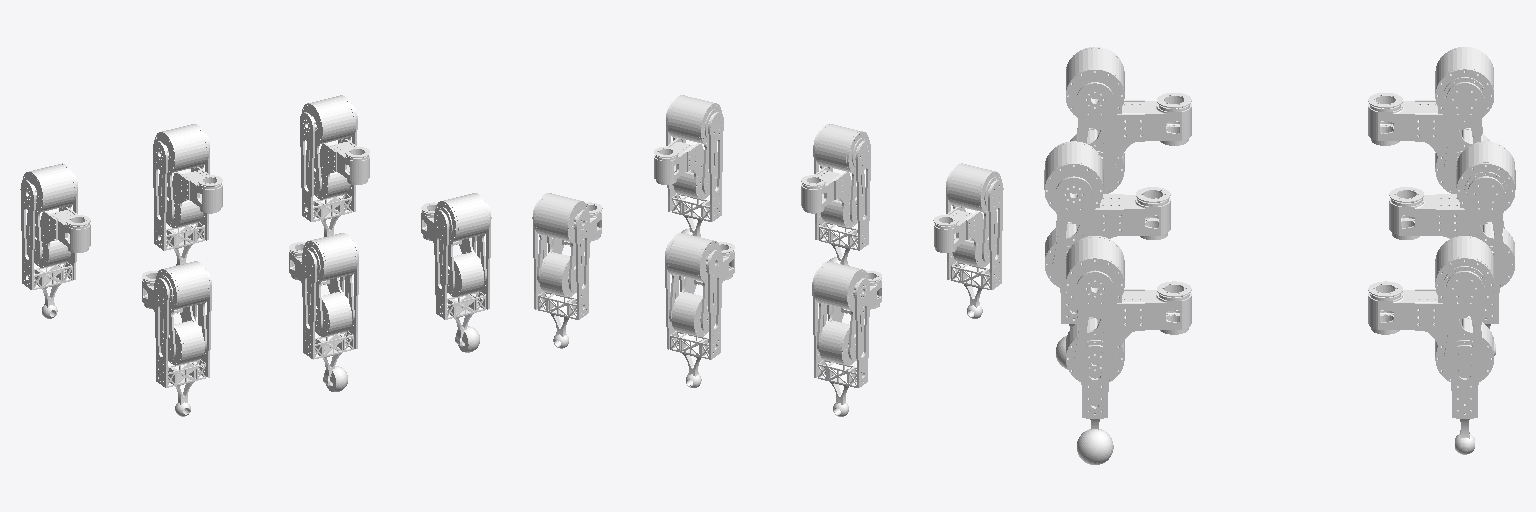
--- Facts derived from the render (not from the file) ---
3 views of the same robot in one strip: view 1: azimuth 30°, elevation 25°; view 2: azimuth 150°, elevation 25°; view 3: azimuth 270°, elevation 25° (orthographic).
Robot: elspider_mini — 26 links, 25 joints (18 revolute, 7 fixed); root link base; default pose: every joint at zero.
Links seen in each view (by area): view 1: RM_SHANK, RF_SHANK, RB_SHANK, RB_THIGH, RF_THIGH, RM_THIGH, LB_SHANK, LF_SHANK, LM_SHANK, LB_HIP, LM_HIP, LF_HIP (+6 smaller); view 2: LF_SHANK, LB_SHANK, LM_SHANK, LM_THIGH, LF_THIGH, LB_THIGH, RB_SHANK, RF_SHANK, RM_SHANK, RM_HIP, RB_HIP, RF_HIP (+6 smaller); view 3: RF_HIP, LF_HIP, RB_HIP, LB_HIP, RM_HIP, LM_HIP, LF_SHANK, RF_SHANK, LF_THIGH, RF_THIGH, RM_THIGH, LM_THIGH (+7 smaller).
Link boxes in pixels (x1,y1,x2,y2): RM_SHANK: (302,240,358,386); RF_SHANK: (434,200,491,346); RB_SHANK: (154,268,211,413); RB_THIGH: (156,261,210,360); RF_THIGH: (435,193,489,292); RM_THIGH: (303,233,357,331); LB_SHANK: (20,172,77,315); LF_SHANK: (300,103,357,236); LM_SHANK: (153,132,209,265); LB_HIP: (35,207,90,267); LM_HIP: (167,167,222,227); LF_HIP: (314,139,369,199); LF_SHANK: (532,201,589,345); LB_SHANK: (812,269,869,413); LM_SHANK: (665,240,722,385); LM_THIGH: (666,233,720,332); LF_THIGH: (534,193,588,292); LB_THIGH: (814,261,867,360); RB_SHANK: (946,171,1003,315); RF_SHANK: (666,102,723,236); RM_SHANK: (813,131,870,265); RM_HIP: (801,167,856,227); RB_HIP: (933,207,988,267); RF_HIP: (654,138,708,199); RF_HIP: (1066,281,1191,381); LF_HIP: (1368,281,1493,381); RB_HIP: (1070,93,1191,192); LB_HIP: (1368,93,1489,192); RM_HIP: (1045,187,1170,287); LM_HIP: (1389,187,1514,287); LF_SHANK: (1446,271,1482,438); RF_SHANK: (1077,271,1113,429); LF_THIGH: (1435,236,1493,377); RF_THIGH: (1066,236,1124,378); RM_THIGH: (1044,141,1103,281); LM_THIGH: (1456,141,1515,281).
Bounding box of the posed robot: 0.9822 × 0.8919 × 0.4459 m (x, y, z).
24 mesh visuals loaded from 25 distinct referenced files (24 binary STL); not drawn: 1 (reference not matched to a file when rendering).

The robot description file, URDF, robot "elspider_mini":
<?xml version="1.0" ?>
<!-- =================================================================================== -->
<!-- |    This document was autogenerated by xacro from robot.xacro                    | -->
<!-- |    EDITING THIS FILE BY HAND IS NOT RECOMMENDED                                 | -->
<!-- =================================================================================== -->
<robot name="elspider_mini">
  <!-- ros_control plugin -->
  <gazebo>
    <plugin filename="libgazebo_ros_control.so" name="gazebo_ros_control">
      <robotNamespace>/elspider_mini</robotNamespace>
      <robotSimType>gazebo_ros_control/DefaultRobotHWSim</robotSimType>
    </plugin>
  </gazebo>
  <!-- root link can not have interia, so add this link and joint -->
  <link name="base">
    <visual>
      <origin rpy="0 0 0" xyz="0 0 0"/>
      <geometry>
        <box size="0.001 0.001 0.001"/>
      </geometry>
    </visual>
  </link>
  <joint name="floating_base" type="fixed">
    <origin rpy="0 0 0" xyz="0 0 0"/>
    <parent link="base"/>
    <child link="base_link"/>
  </joint>
  <link name="base_link">
    <inertial>
      <origin rpy="0 0 0" xyz="0.00930909659167422 -0.0044043008545412 -0.00356076318615579"/>
      <mass value="10.154"/>
      <inertia ixx="0.383316503" ixy="0.005624294" ixz="0.000867617" iyy="1.184788202" iyz="-0.000642783" izz="1.510253542"/>
    </inertial>
    <visual>
      <origin rpy="0 0 0" xyz="0 0 0"/>
      <geometry>
        <mesh filename="package://robot/urdf/elspider_mini/meshes/base_link.STL"/>
      </geometry>
      <material name="">
        <color rgba="1 1 1 1"/>
      </material>
    </visual>
    <collision>
      <origin rpy="0 0 0" xyz="0 0 0"/>
      <geometry>
        <mesh filename="package://robot/urdf/elspider_mini/meshes/base_link.STL"/>
      </geometry>
    </collision>
  </link>
  <!-- right mirror == 1, left mirror == -1 -->
  <link name="RF_HIP">
    <inertial>
      <origin rpy="0 0 0" xyz="-0.0032447 0.10644 -0.051265"/>
      <mass value="1.432"/>
      <inertia ixx="0.008667273" ixy="0.000550519" ixz="-0.000437698" iyy="0.003966417" iyz="0.003045718" izz="0.006263477"/>
    </inertial>
    <visual>
      <origin rpy="0 0 0" xyz="0 0 0"/>
      <geometry>
        <mesh filename="package://robot/urdf/elspider_mini/meshes/RF_HIP.STL"/>
      </geometry>
      <material name="">
        <color rgba="1 1 1 1"/>
      </material>
    </visual>
    <collision>
      <origin rpy="0 0 0" xyz="0 0 0"/>
      <geometry>
        <mesh filename="package://robot/urdf/elspider_mini/meshes/RF_HIP.STL"/>
      </geometry>
    </collision>
  </link>
  <joint name="RF_HAA" type="revolute">
    <origin rpy="0 0 3.1416" xyz="0.42311 -0.2 0.003"/>
    <parent link="base_link"/>
    <child link="RF_HIP"/>
    <axis xyz="0 0 1"/>
    <dynamics damping="0" friction="0"/>
    <limit effort="33.5" lower="-0.94" upper="0.94" velocity="21"/>
  </joint>
  <link name="RF_THIGH">
    <inertial>
      <!-- y approximately euqal to 0 -->
      <origin rpy="0 0 0" xyz="0.130350535114915 0 0.00536514725405646"/>
      <mass value="1.088"/>
      <inertia ixx="0.005757794" ixy="0" ixz="0.001017752" iyy="0.006716892" iyz="0" izz="0.002140865"/>
    </inertial>
    <visual>
      <origin rpy="0 0 0" xyz="0 0 0"/>
      <geometry>
        <mesh filename="package://robot/urdf/elspider_mini/meshes/RF_THIGH.STL"/>
      </geometry>
      <material name="">
        <color rgba="1 1 1 1"/>
      </material>
    </visual>
    <collision>
      <origin rpy="0 0 0" xyz="0 0 0"/>
      <geometry>
        <mesh filename="package://robot/urdf/elspider_mini/meshes/RF_THIGH.STL"/>
      </geometry>
    </collision>
  </link>
  <joint name="RF_HFE" type="revolute">
    <origin rpy="3.1416 -1.5708 0" xyz="0 0.15 -0.086603"/>
    <axis xyz="0 0 -1"/>
    <parent link="RF_HIP"/>
    <child link="RF_THIGH"/>
    <dynamics damping="0" friction="0"/>
    <limit effort="33.5" lower="-0.1" upper="3.5" velocity="21"/>
  </joint>
  <link name="RF_SHANK">
    <inertial>
      <origin rpy="0 0 0" xyz="8.3661968509452e-05 -0.149655490940651 0.00235938386243889"/>
      <mass value="0.632"/>
      <!-- no mirror in ixy, ixz? -->
      <inertia ixx="0.009725734" ixy="0.0" ixz="-0.000516644" iyy="0.011177627" iyz="6.204e-06" izz="0.001750349"/>
    </inertial>
    <visual>
      <origin rpy="0 0 0" xyz="0 0 0"/>
      <geometry>
        <mesh filename="package://robot/urdf/elspider_mini/meshes/RF_SHANK.STL"/>
      </geometry>
      <material name="">
        <color rgba="1 1 1 1"/>
      </material>
    </visual>
    <collision>
      <origin rpy="0 0 0" xyz="0 0 0"/>
      <geometry>
        <mesh filename="package://robot/urdf/elspider_mini/meshes/RF_SHANK.STL"/>
      </geometry>
    </collision>
  </link>
  <joint name="RF_KFE" type="revolute">
    <origin rpy="3.1416 0 1.5708" xyz="0.162 0 0"/>
    <parent link="RF_THIGH"/>
    <child link="RF_SHANK"/>
    <axis xyz="0 0 -1"/>
    <dynamics damping="0" friction="0"/>
    <limit effort="33.5" lower="-0.436" upper="4.25" velocity="21"/>
  </joint>
  <link name="RF_FOOT">
    <inertial>
      <!-- xyz approximately euqal to 0 -->
      <origin rpy="0 0 0" xyz="0 0 0"/>
      <mass value="0.013"/>
      <inertia ixx="2.423e-06" ixy="0" ixz="0" iyy="3.073e-06" iyz="0" izz="2.423e-06"/>
    </inertial>
    <visual>
      <origin rpy="0 0 0" xyz="0 0 0"/>
      <geometry>
        <mesh filename="package://robot/urdf/elspider_mini/meshes/RF_FOOT.STL"/>
      </geometry>
      <material name="">
        <color rgba="1 1 1 1"/>
      </material>
    </visual>
    <collision>
      <origin rpy="0 0 0" xyz="0 0 0"/>
      <geometry>
        <mesh filename="package://robot/urdf/elspider_mini/meshes/RF_FOOT.STL"/>
      </geometry>
    </collision>
  </link>
  <joint dont_collapse="true" name="RF_FIX" type="fixed">
    <origin rpy="3.1416 0 3.1416" xyz="0 -0.35499 0"/>
    <parent link="RF_SHANK"/>
    <child link="RF_FOOT"/>
    <axis xyz="0 0 0"/>
  </joint>
  <transmission name="RF_HAA_tran">
    <type>transmission_interface/SimpleTransmission</type>
    <joint name="RF_HAA">
      <hardwareInterface>hardware_interface/EffortJointInterface</hardwareInterface>
    </joint>
    <actuator name="RF_HAA_motor">
      <hardwareInterface>hardware_interface/EffortJointInterface</hardwareInterface>
      <mechanicalReduction>1</mechanicalReduction>
    </actuator>
  </transmission>
  <transmission name="RF_HFE_tran">
    <type>transmission_interface/SimpleTransmission</type>
    <joint name="RF_HFE">
      <hardwareInterface>hardware_interface/EffortJointInterface</hardwareInterface>
    </joint>
    <actuator name="RF_HFE_motor">
      <hardwareInterface>hardware_interface/EffortJointInterface</hardwareInterface>
      <mechanicalReduction>1</mechanicalReduction>
    </actuator>
  </transmission>
  <transmission name="RF_KFE_tran">
    <type>transmission_interface/SimpleTransmission</type>
    <joint name="RF_KFE">
      <hardwareInterface>hardware_interface/EffortJointInterface</hardwareInterface>
    </joint>
    <actuator name="RF_KFE_motor">
      <hardwareInterface>hardware_interface/EffortJointInterface</hardwareInterface>
      <mechanicalReduction>1</mechanicalReduction>
    </actuator>
  </transmission>
  <!-- Foot contacts. -->
  <gazebo reference="RF_SHANK">
    <sensor name="RF_foot_contact" type="contact">
      <alwaysOn>true</alwaysOn>
      <update_rate>100</update_rate>
      <plugin filename="libunitreeFootContactPlugin.so" name="contactPlugin"/>
      <contact>
        <collision>RF_foot_collision_collision</collision>
      </contact>
    </sensor>
  </gazebo>
  <!-- Visualization of Foot contacts. -->
  <gazebo reference="RF_FOOT">
    <visual>
      <plugin filename="libunitreeDrawForcePlugin.so" name="drawForcePlugin">
        <topicName>RF_foot_contact</topicName>
      </plugin>
    </visual>
  </gazebo>
  <!-- right mirror == 1, left mirror == -1 -->
  <link name="RM_HIP">
    <inertial>
      <origin rpy="0 0 0" xyz="-0.0032447 0.10644 -0.051265"/>
      <mass value="1.432"/>
      <inertia ixx="0.008667273" ixy="0.000550519" ixz="-0.000437698" iyy="0.003966417" iyz="0.003045718" izz="0.006263477"/>
    </inertial>
    <visual>
      <origin rpy="0 0 0" xyz="0 0 0"/>
      <geometry>
        <mesh filename="package://robot/urdf/elspider_mini/meshes/RM_HIP.STL"/>
      </geometry>
      <material name="">
        <color rgba="1 1 1 1"/>
      </material>
    </visual>
    <collision>
      <origin rpy="0 0 0" xyz="0 0 0"/>
      <geometry>
        <mesh filename="package://robot/urdf/elspider_mini/meshes/RM_HIP.STL"/>
      </geometry>
    </collision>
  </link>
  <joint name="RM_HAA" type="revolute">
    <origin rpy="0 0 3.1416" xyz="0 -0.24 0.003"/>
    <parent link="base_link"/>
    <child link="RM_HIP"/>
    <axis xyz="0 0 1"/>
    <dynamics damping="0" friction="0"/>
    <limit effort="33.5" lower="-0.94" upper="0.94" velocity="21"/>
  </joint>
  <link name="RM_THIGH">
    <inertial>
      <!-- y approximately euqal to 0 -->
      <origin rpy="0 0 0" xyz="0.130350535114915 0 0.00536514725405646"/>
      <mass value="1.088"/>
      <inertia ixx="0.005757794" ixy="0" ixz="0.001017752" iyy="0.006716892" iyz="0" izz="0.002140865"/>
    </inertial>
    <visual>
      <origin rpy="0 0 0" xyz="0 0 0"/>
      <geometry>
        <mesh filename="package://robot/urdf/elspider_mini/meshes/RM_THIGH.STL"/>
      </geometry>
      <material name="">
        <color rgba="1 1 1 1"/>
      </material>
    </visual>
    <collision>
      <origin rpy="0 0 0" xyz="0 0 0"/>
      <geometry>
        <mesh filename="package://robot/urdf/elspider_mini/meshes/RM_THIGH.STL"/>
      </geometry>
    </collision>
  </link>
  <joint name="RM_HFE" type="revolute">
    <origin rpy="3.1416 -1.5708 0" xyz="0 0.15 -0.086603"/>
    <axis xyz="0 0 -1"/>
    <parent link="RM_HIP"/>
    <child link="RM_THIGH"/>
    <dynamics damping="0" friction="0"/>
    <limit effort="33.5" lower="-0.1" upper="3.5" velocity="21"/>
  </joint>
  <link name="RM_SHANK">
    <inertial>
      <origin rpy="0 0 0" xyz="8.3661968509452e-05 -0.149655490940651 0.00235938386243889"/>
      <mass value="0.632"/>
      <!-- no mirror in ixy, ixz? -->
      <inertia ixx="0.009725734" ixy="0.0" ixz="-0.000516644" iyy="0.011177627" iyz="6.204e-06" izz="0.001750349"/>
    </inertial>
    <visual>
      <origin rpy="0 0 0" xyz="0 0 0"/>
      <geometry>
        <mesh filename="package://robot/urdf/elspider_mini/meshes/RM_SHANK.STL"/>
      </geometry>
      <material name="">
        <color rgba="1 1 1 1"/>
      </material>
    </visual>
    <collision>
      <origin rpy="0 0 0" xyz="0 0 0"/>
      <geometry>
        <mesh filename="package://robot/urdf/elspider_mini/meshes/RM_SHANK.STL"/>
      </geometry>
    </collision>
  </link>
  <joint name="RM_KFE" type="revolute">
    <origin rpy="3.1416 0 1.5708" xyz="0.162 0 0"/>
    <parent link="RM_THIGH"/>
    <child link="RM_SHANK"/>
    <axis xyz="0 0 -1"/>
    <dynamics damping="0" friction="0"/>
    <limit effort="33.5" lower="-0.436" upper="4.25" velocity="21"/>
  </joint>
  <link name="RM_FOOT">
    <inertial>
      <!-- xyz approximately euqal to 0 -->
      <origin rpy="0 0 0" xyz="0 0 0"/>
      <mass value="0.013"/>
      <inertia ixx="2.423e-06" ixy="0" ixz="0" iyy="3.073e-06" iyz="0" izz="2.423e-06"/>
    </inertial>
    <visual>
      <origin rpy="0 0 0" xyz="0 0 0"/>
      <geometry>
        <mesh filename="package://robot/urdf/elspider_mini/meshes/RM_FOOT.STL"/>
      </geometry>
      <material name="">
        <color rgba="1 1 1 1"/>
      </material>
    </visual>
    <collision>
      <origin rpy="0 0 0" xyz="0 0 0"/>
      <geometry>
        <mesh filename="package://robot/urdf/elspider_mini/meshes/RM_FOOT.STL"/>
      </geometry>
    </collision>
  </link>
  <joint dont_collapse="true" name="RM_FIX" type="fixed">
    <origin rpy="3.1416 0 3.1416" xyz="0 -0.35499 0"/>
    <parent link="RM_SHANK"/>
    <child link="RM_FOOT"/>
    <axis xyz="0 0 0"/>
  </joint>
  <transmission name="RM_HAA_tran">
    <type>transmission_interface/SimpleTransmission</type>
    <joint name="RM_HAA">
      <hardwareInterface>hardware_interface/EffortJointInterface</hardwareInterface>
    </joint>
    <actuator name="RM_HAA_motor">
      <hardwareInterface>hardware_interface/EffortJointInterface</hardwareInterface>
      <mechanicalReduction>1</mechanicalReduction>
    </actuator>
  </transmission>
  <transmission name="RM_HFE_tran">
    <type>transmission_interface/SimpleTransmission</type>
    <joint name="RM_HFE">
      <hardwareInterface>hardware_interface/EffortJointInterface</hardwareInterface>
    </joint>
    <actuator name="RM_HFE_motor">
      <hardwareInterface>hardware_interface/EffortJointInterface</hardwareInterface>
      <mechanicalReduction>1</mechanicalReduction>
    </actuator>
  </transmission>
  <transmission name="RM_KFE_tran">
    <type>transmission_interface/SimpleTransmission</type>
    <joint name="RM_KFE">
      <hardwareInterface>hardware_interface/EffortJointInterface</hardwareInterface>
    </joint>
    <actuator name="RM_KFE_motor">
      <hardwareInterface>hardware_interface/EffortJointInterface</hardwareInterface>
      <mechanicalReduction>1</mechanicalReduction>
    </actuator>
  </transmission>
  <!-- Foot contacts. -->
  <gazebo reference="RM_SHANK">
    <sensor name="RM_foot_contact" type="contact">
      <alwaysOn>true</alwaysOn>
      <update_rate>100</update_rate>
      <plugin filename="libunitreeFootContactPlugin.so" name="contactPlugin"/>
      <contact>
        <collision>RM_foot_collision_collision</collision>
      </contact>
    </sensor>
  </gazebo>
  <!-- Visualization of Foot contacts. -->
  <gazebo reference="RM_FOOT">
    <visual>
      <plugin filename="libunitreeDrawForcePlugin.so" name="drawForcePlugin">
        <topicName>RM_foot_contact</topicName>
      </plugin>
    </visual>
  </gazebo>
  <!-- right mirror == 1, left mirror == -1 -->
  <link name="RB_HIP">
    <inertial>
      <origin rpy="0 0 0" xyz="-0.0032447 0.10644 -0.051265"/>
      <mass value="1.432"/>
      <inertia ixx="0.008667273" ixy="0.000550519" ixz="-0.000437698" iyy="0.003966417" iyz="0.003045718" izz="0.006263477"/>
    </inertial>
    <visual>
      <origin rpy="0 0 0" xyz="0 0 0"/>
      <geometry>
        <mesh filename="package://robot/urdf/elspider_mini/meshes/RB_HIP.STL"/>
      </geometry>
      <material name="">
        <color rgba="1 1 1 1"/>
      </material>
    </visual>
    <collision>
      <origin rpy="0 0 0" xyz="0 0 0"/>
      <geometry>
        <mesh filename="package://robot/urdf/elspider_mini/meshes/RB_HIP.STL"/>
      </geometry>
    </collision>
  </link>
  <joint name="RB_HAA" type="revolute">
    <origin rpy="0 0 3.1416" xyz="-0.42311 -0.2 0.003"/>
    <parent link="base_link"/>
    <child link="RB_HIP"/>
    <axis xyz="0 0 1"/>
    <dynamics damping="0" friction="0"/>
    <limit effort="33.5" lower="-0.94" upper="0.94" velocity="21"/>
  </joint>
  <link name="RB_THIGH">
    <inertial>
      <!-- y approximately euqal to 0 -->
      <origin rpy="0 0 0" xyz="0.130350535114915 0 0.00536514725405646"/>
      <mass value="1.088"/>
      <inertia ixx="0.005757794" ixy="0" ixz="0.001017752" iyy="0.006716892" iyz="0" izz="0.002140865"/>
    </inertial>
    <visual>
      <origin rpy="0 0 0" xyz="0 0 0"/>
      <geometry>
        <mesh filename="package://robot/urdf/elspider_mini/meshes/RB_THIGH.STL"/>
      </geometry>
      <material name="">
        <color rgba="1 1 1 1"/>
      </material>
    </visual>
    <collision>
      <origin rpy="0 0 0" xyz="0 0 0"/>
      <geometry>
        <mesh filename="package://robot/urdf/elspider_mini/meshes/RB_THIGH.STL"/>
      </geometry>
    </collision>
  </link>
  <joint name="RB_HFE" type="revolute">
    <origin rpy="3.1416 -1.5708 0" xyz="0 0.15 -0.086603"/>
    <axis xyz="0 0 -1"/>
    <parent link="RB_HIP"/>
    <child link="RB_THIGH"/>
    <dynamics damping="0" friction="0"/>
    <limit effort="33.5" lower="-0.1" upper="3.5" velocity="21"/>
  </joint>
  <link name="RB_SHANK">
    <inertial>
      <origin rpy="0 0 0" xyz="8.3661968509452e-05 -0.149655490940651 0.00235938386243889"/>
      <mass value="0.632"/>
      <!-- no mirror in ixy, ixz? -->
      <inertia ixx="0.009725734" ixy="0.0" ixz="-0.000516644" iyy="0.011177627" iyz="6.204e-06" izz="0.001750349"/>
    </inertial>
    <visual>
      <origin rpy="0 0 0" xyz="0 0 0"/>
      <geometry>
        <mesh filename="package://robot/urdf/elspider_mini/meshes/RB_SHANK.STL"/>
      </geometry>
      <material name="">
        <color rgba="1 1 1 1"/>
      </material>
    </visual>
    <collision>
      <origin rpy="0 0 0" xyz="0 0 0"/>
      <geometry>
        <mesh filename="package://robot/urdf/elspider_mini/meshes/RB_SHANK.STL"/>
      </geometry>
    </collision>
  </link>
  <joint name="RB_KFE" type="revolute">
    <origin rpy="3.1416 0 1.5708" xyz="0.162 0 0"/>
    <parent link="RB_THIGH"/>
    <child link="RB_SHANK"/>
    <axis xyz="0 0 -1"/>
    <dynamics damping="0" friction="0"/>
    <limit effort="33.5" lower="-0.436" upper="4.25" velocity="21"/>
  </joint>
  <link name="RB_FOOT">
    <inertial>
      <!-- xyz approximately euqal to 0 -->
      <origin rpy="0 0 0" xyz="0 0 0"/>
      <mass value="0.013"/>
      <inertia ixx="2.423e-06" ixy="0" ixz="0" iyy="3.073e-06" iyz="0" izz="2.423e-06"/>
    </inertial>
    <visual>
      <origin rpy="0 0 0" xyz="0 0 0"/>
      <geometry>
        <mesh filename="package://robot/urdf/elspider_mini/meshes/RB_FOOT.STL"/>
      </geometry>
      <material name="">
        <color rgba="1 1 1 1"/>
      </material>
    </visual>
    <collision>
      <origin rpy="0 0 0" xyz="0 0 0"/>
      <geometry>
        <mesh filename="package://robot/urdf/elspider_mini/meshes/RB_FOOT.STL"/>
      </geometry>
    </collision>
  </link>
  <joint dont_collapse="true" name="RB_FIX" type="fixed">
    <origin rpy="3.1416 0 3.1416" xyz="0 -0.35499 0"/>
    <parent link="RB_SHANK"/>
    <child link="RB_FOOT"/>
    <axis xyz="0 0 0"/>
  </joint>
  <transmission name="RB_HAA_tran">
    <type>transmission_interface/SimpleTransmission</type>
    <joint name="RB_HAA">
      <hardwareInterface>hardware_interface/EffortJointInterface</hardwareInterface>
    </joint>
    <actuator name="RB_HAA_motor">
      <hardwareInterface>hardware_interface/EffortJointInterface</hardwareInterface>
      <mechanicalReduction>1</mechanicalReduction>
    </actuator>
  </transmission>
  <transmission name="RB_HFE_tran">
    <type>transmission_interface/SimpleTransmission</type>
    <joint name="RB_HFE">
      <hardwareInterface>hardware_interface/EffortJointInterface</hardwareInterface>
    </joint>
    <actuator name="RB_HFE_motor">
      <hardwareInterface>hardware_interface/EffortJointInterface</hardwareInterface>
      <mechanicalReduction>1</mechanicalReduction>
    </actuator>
  </transmission>
  <transmission name="RB_KFE_tran">
    <type>transmission_interface/SimpleTransmission</type>
    <joint name="RB_KFE">
      <hardwareInterface>hardware_interface/EffortJointInterface</hardwareInterface>
    </joint>
    <actuator name="RB_KFE_motor">
      <hardwareInterface>hardware_interface/EffortJointInterface</hardwareInterface>
      <mechanicalReduction>1</mechanicalReduction>
    </actuator>
  </transmission>
  <!-- Foot contacts. -->
  <gazebo reference="RB_SHANK">
    <sensor name="RB_foot_contact" type="contact">
      <alwaysOn>true</alwaysOn>
      <update_rate>100</update_rate>
      <plugin filename="libunitreeFootContactPlugin.so" name="contactPlugin"/>
      <contact>
        <collision>RB_foot_collision_collision</collision>
      </contact>
    </sensor>
  </gazebo>
  <!-- Visualization of Foot contacts. -->
  <gazebo reference="RB_FOOT">
    <visual>
      <plugin filename="libunitreeDrawForcePlugin.so" name="drawForcePlugin">
        <topicName>RB_foot_contact</topicName>
      </plugin>
    </visual>
  </gazebo>
  <!-- right mirror == 1, left mirror == -1 -->
  <link name="LF_HIP">
    <inertial>
      <origin rpy="0 0 0" xyz="-0.0032447 0.10644 0.051265"/>
      <mass value="1.432"/>
      <inertia ixx="0.008667273" ixy="-0.000550519" ixz="-0.000437698" iyy="0.003966417" iyz="-0.003045718" izz="0.006263477"/>
    </inertial>
    <visual>
      <origin rpy="0 0 0" xyz="0 0 0"/>
      <geometry>
        <mesh filename="package://robot/urdf/elspider_mini/meshes/LF_HIP.STL"/>
      </geometry>
      <material name="">
        <color rgba="1 1 1 1"/>
      </material>
    </visual>
    <collision>
      <origin rpy="0 0 0" xyz="0 0 0"/>
      <geometry>
        <mesh filename="package://robot/urdf/elspider_mini/meshes/LF_HIP.STL"/>
      </geometry>
    </collision>
  </link>
  <joint name="LF_HAA" type="revolute">
    <origin rpy="3.1416 0 3.1416" xyz="0.42311 0.2 0.003"/>
    <parent link="base_link"/>
    <child link="LF_HIP"/>
    <axis xyz="0 0 1"/>
    <dynamics damping="0" friction="0"/>
    <limit effort="33.5" lower="-0.94" upper="0.94" velocity="21"/>
  </joint>
  <link name="LF_THIGH">
    <inertial>
      <!-- y approximately euqal to 0 -->
      <origin rpy="0 0 0" xyz="0.130350535114915 0 -0.00536514725405646"/>
      <mass value="1.088"/>
      <inertia ixx="0.005757794" ixy="0" ixz="0.001017752" iyy="0.006716892" iyz="0" izz="0.002140865"/>
    </inertial>
    <visual>
      <origin rpy="0 0 0" xyz="0 0 0"/>
      <geometry>
        <mesh filename="package://robot/urdf/elspider_mini/meshes/LF_THIGH.STL"/>
      </geometry>
      <material name="">
        <color rgba="1 1 1 1"/>
      </material>
    </visual>
    <collision>
      <origin rpy="0 0 0" xyz="0 0 0"/>
      <geometry>
        <mesh filename="package://robot/urdf/elspider_mini/meshes/LF_THIGH.STL"/>
      </geometry>
    </collision>
  </link>
  <joint name="LF_HFE" type="revolute">
    <origin rpy="0 1.5708 0" xyz="0 0.15 0.086603"/>
    <axis xyz="0 0 1"/>
    <parent link="LF_HIP"/>
    <child link="LF_THIGH"/>
    <dynamics damping="0" friction="0"/>
    <limit effort="33.5" lower="-0.1" upper="3.5" velocity="21"/>
  </joint>
  <link name="LF_SHANK">
    <inertial>
      <origin rpy="0 0 0" xyz="-8.3661968509452e-05 -0.149655490940651 -0.00235938386243889"/>
      <mass value="0.632"/>
      <!-- no mirror in ixy, ixz? -->
      <inertia ixx="0.009725734" ixy="0.0" ixz="-0.000516644" iyy="0.011177627" iyz="6.204e-06" izz="0.001750349"/>
    </inertial>
    <visual>
      <origin rpy="0 0 0" xyz="0 0 0"/>
      <geometry>
        <mesh filename="package://robot/urdf/elspider_mini/meshes/LF_SHANK.STL"/>
      </geometry>
      <material name="">
        <color rgba="1 1 1 1"/>
      </material>
    </visual>
    <collision>
      <origin rpy="0 0 0" xyz="0 0 0"/>
      <geometry>
        <mesh filename="package://robot/urdf/elspider_mini/meshes/LF_SHANK.STL"/>
      </geometry>
    </collision>
  </link>
  <joint name="LF_KFE" type="revolute">
    <origin rpy="3.1416 0 1.5708" xyz="0.162 0 0"/>
    <parent link="LF_THIGH"/>
    <child link="LF_SHANK"/>
    <axis xyz="0 0 1"/>
    <dynamics damping="0" friction="0"/>
    <limit effort="33.5" lower="-0.436" upper="4.25" velocity="21"/>
  </joint>
  <link name="LF_FOOT">
    <inertial>
      <!-- xyz approximately euqal to 0 -->
      <origin rpy="0 0 0" xyz="0 0 0"/>
      <mass value="0.013"/>
      <inertia ixx="2.423e-06" ixy="0" ixz="0" iyy="3.073e-06" iyz="0" izz="2.423e-06"/>
    </inertial>
    <visual>
      <origin rpy="0 0 0" xyz="0 0 0"/>
      <geometry>
        <mesh filename="package://robot/urdf/elspider_mini/meshes/LF_FOOT.STL"/>
      </geometry>
      <material name="">
        <color rgba="1 1 1 1"/>
      </material>
    </visual>
    <collision>
      <origin rpy="0 0 0" xyz="0 0 0"/>
      <geometry>
        <mesh filename="package://robot/urdf/elspider_mini/meshes/LF_FOOT.STL"/>
      </geometry>
    </collision>
  </link>
  <joint dont_collapse="true" name="LF_FIX" type="fixed">
    <origin rpy="0 0 0" xyz="0 -0.35499 0"/>
    <parent link="LF_SHANK"/>
    <child link="LF_FOOT"/>
    <axis xyz="0 0 0"/>
  </joint>
  <transmission name="LF_HAA_tran">
    <type>transmission_interface/SimpleTransmission</type>
    <joint name="LF_HAA">
      <hardwareInterface>hardware_interface/EffortJointInterface</hardwareInterface>
    </joint>
    <actuator name="LF_HAA_motor">
      <hardwareInterface>hardware_interface/EffortJointInterface</hardwareInterface>
      <mechanicalReduction>1</mechanicalReduction>
    </actuator>
  </transmission>
  <transmission name="LF_HFE_tran">
    <type>transmission_interface/SimpleTransmission</type>
    <joint name="LF_HFE">
      <hardwareInterface>hardware_interface/EffortJointInterface</hardwareInterface>
    </joint>
    <actuator name="LF_HFE_motor">
      <hardwareInterface>hardware_interface/EffortJointInterface</hardwareInterface>
      <mechanicalReduction>1</mechanicalReduction>
    </actuator>
  </transmission>
  <transmission name="LF_KFE_tran">
    <type>transmission_interface/SimpleTransmission</type>
    <joint name="LF_KFE">
      <hardwareInterface>hardware_interface/EffortJointInterface</hardwareInterface>
    </joint>
    <actuator name="LF_KFE_motor">
      <hardwareInterface>hardware_interface/EffortJointInterface</hardwareInterface>
      <mechanicalReduction>1</mechanicalReduction>
    </actuator>
  </transmission>
  <!-- Foot contacts. -->
  <gazebo reference="LF_SHANK">
    <sensor name="LF_foot_contact" type="contact">
      <alwaysOn>true</alwaysOn>
      <update_rate>100</update_rate>
      <plugin filename="libunitreeFootContactPlugin.so" name="contactPlugin"/>
      <contact>
        <collision>LF_foot_collision_collision</collision>
      </contact>
    </sensor>
  </gazebo>
  <!-- Visualization of Foot contacts. -->
  <gazebo reference="LF_FOOT">
    <visual>
      <plugin filename="libunitreeDrawForcePlugin.so" name="drawForcePlugin">
        <topicName>LF_foot_contact</topicName>
      </plugin>
    </visual>
  </gazebo>
  <!-- right mirror == 1, left mirror == -1 -->
  <link name="LM_HIP">
    <inertial>
      <origin rpy="0 0 0" xyz="-0.0032447 0.10644 0.051265"/>
      <mass value="1.432"/>
      <inertia ixx="0.008667273" ixy="-0.000550519" ixz="-0.000437698" iyy="0.003966417" iyz="-0.003045718" izz="0.006263477"/>
    </inertial>
    <visual>
      <origin rpy="0 0 0" xyz="0 0 0"/>
      <geometry>
        <mesh filename="package://robot/urdf/elspider_mini/meshes/LM_HIP.STL"/>
      </geometry>
      <material name="">
        <color rgba="1 1 1 1"/>
      </material>
    </visual>
    <collision>
      <origin rpy="0 0 0" xyz="0 0 0"/>
      <geometry>
        <mesh filename="package://robot/urdf/elspider_mini/meshes/LM_HIP.STL"/>
      </geometry>
    </collision>
  </link>
  <joint name="LM_HAA" type="revolute">
    <origin rpy="3.1416 0 -3.1416" xyz="0 0.24 0.003"/>
    <parent link="base_link"/>
    <child link="LM_HIP"/>
    <axis xyz="0 0 1"/>
    <dynamics damping="0" friction="0"/>
    <limit effort="33.5" lower="-0.94" upper="0.94" velocity="21"/>
  </joint>
  <link name="LM_THIGH">
    <inertial>
      <!-- y approximately euqal to 0 -->
      <origin rpy="0 0 0" xyz="0.130350535114915 0 -0.00536514725405646"/>
      <mass value="1.088"/>
      <inertia ixx="0.005757794" ixy="0" ixz="0.001017752" iyy="0.006716892" iyz="0" izz="0.002140865"/>
    </inertial>
    <visual>
      <origin rpy="0 0 0" xyz="0 0 0"/>
      <geometry>
        <mesh filename="package://robot/urdf/elspider_mini/meshes/LM_THIGH.STL"/>
      </geometry>
      <material name="">
        <color rgba="1 1 1 1"/>
      </material>
    </visual>
    <collision>
      <origin rpy="0 0 0" xyz="0 0 0"/>
      <geometry>
        <mesh filename="package://robot/urdf/elspider_mini/meshes/LM_THIGH.STL"/>
      </geometry>
    </collision>
  </link>
  <joint name="LM_HFE" type="revolute">
    <origin rpy="0 1.5708 0" xyz="0 0.15 0.086603"/>
    <axis xyz="0 0 1"/>
    <parent link="LM_HIP"/>
    <child link="LM_THIGH"/>
    <dynamics damping="0" friction="0"/>
    <limit effort="33.5" lower="-0.1" upper="3.5" velocity="21"/>
  </joint>
  <link name="LM_SHANK">
    <inertial>
      <origin rpy="0 0 0" xyz="-8.3661968509452e-05 -0.149655490940651 -0.00235938386243889"/>
      <mass value="0.632"/>
      <!-- no mirror in ixy, ixz? -->
      <inertia ixx="0.009725734" ixy="0.0" ixz="-0.000516644" iyy="0.011177627" iyz="6.204e-06" izz="0.001750349"/>
    </inertial>
    <visual>
      <origin rpy="0 0 0" xyz="0 0 0"/>
      <geometry>
        <mesh filename="package://robot/urdf/elspider_mini/meshes/LM_SHANK.STL"/>
      </geometry>
      <material name="">
        <color rgba="1 1 1 1"/>
      </material>
    </visual>
    <collision>
      <origin rpy="0 0 0" xyz="0 0 0"/>
      <geometry>
        <mesh filename="package://robot/urdf/elspider_mini/meshes/LM_SHANK.STL"/>
      </geometry>
    </collision>
  </link>
  <joint name="LM_KFE" type="revolute">
    <origin rpy="3.1416 0 1.5708" xyz="0.162 0 0"/>
    <parent link="LM_THIGH"/>
    <child link="LM_SHANK"/>
    <axis xyz="0 0 1"/>
    <dynamics damping="0" friction="0"/>
    <limit effort="33.5" lower="-0.436" upper="4.25" velocity="21"/>
  </joint>
  <link name="LM_FOOT">
    <inertial>
      <!-- xyz approximately euqal to 0 -->
      <origin rpy="0 0 0" xyz="0 0 0"/>
      <mass value="0.013"/>
      <inertia ixx="2.423e-06" ixy="0" ixz="0" iyy="3.073e-06" iyz="0" izz="2.423e-06"/>
    </inertial>
    <visual>
      <origin rpy="0 0 0" xyz="0 0 0"/>
      <geometry>
        <mesh filename="package://robot/urdf/elspider_mini/meshes/LM_FOOT.STL"/>
      </geometry>
      <material name="">
        <color rgba="1 1 1 1"/>
      </material>
    </visual>
    <collision>
      <origin rpy="0 0 0" xyz="0 0 0"/>
      <geometry>
        <mesh filename="package://robot/urdf/elspider_mini/meshes/LM_FOOT.STL"/>
      </geometry>
    </collision>
  </link>
  <joint dont_collapse="true" name="LM_FIX" type="fixed">
    <origin rpy="0 0 0" xyz="0 -0.35499 0"/>
    <parent link="LM_SHANK"/>
    <child link="LM_FOOT"/>
    <axis xyz="0 0 0"/>
  </joint>
  <transmission name="LM_HAA_tran">
    <type>transmission_interface/SimpleTransmission</type>
    <joint name="LM_HAA">
      <hardwareInterface>hardware_interface/EffortJointInterface</hardwareInterface>
    </joint>
    <actuator name="LM_HAA_motor">
      <hardwareInterface>hardware_interface/EffortJointInterface</hardwareInterface>
      <mechanicalReduction>1</mechanicalReduction>
    </actuator>
  </transmission>
  <transmission name="LM_HFE_tran">
    <type>transmission_interface/SimpleTransmission</type>
    <joint name="LM_HFE">
      <hardwareInterface>hardware_interface/EffortJointInterface</hardwareInterface>
    </joint>
    <actuator name="LM_HFE_motor">
      <hardwareInterface>hardware_interface/EffortJointInterface</hardwareInterface>
      <mechanicalReduction>1</mechanicalReduction>
    </actuator>
  </transmission>
  <transmission name="LM_KFE_tran">
    <type>transmission_interface/SimpleTransmission</type>
    <joint name="LM_KFE">
      <hardwareInterface>hardware_interface/EffortJointInterface</hardwareInterface>
    </joint>
    <actuator name="LM_KFE_motor">
      <hardwareInterface>hardware_interface/EffortJointInterface</hardwareInterface>
      <mechanicalReduction>1</mechanicalReduction>
    </actuator>
  </transmission>
  <!-- Foot contacts. -->
  <gazebo reference="LM_SHANK">
    <sensor name="LM_foot_contact" type="contact">
      <alwaysOn>true</alwaysOn>
      <update_rate>100</update_rate>
      <plugin filename="libunitreeFootContactPlugin.so" name="contactPlugin"/>
      <contact>
        <collision>LM_foot_collision_collision</collision>
      </contact>
    </sensor>
  </gazebo>
  <!-- Visualization of Foot contacts. -->
  <gazebo reference="LM_FOOT">
    <visual>
      <plugin filename="libunitreeDrawForcePlugin.so" name="drawForcePlugin">
        <topicName>LM_foot_contact</topicName>
      </plugin>
    </visual>
  </gazebo>
  <!-- right mirror == 1, left mirror == -1 -->
  <link name="LB_HIP">
    <inertial>
      <origin rpy="0 0 0" xyz="-0.0032447 0.10644 0.051265"/>
      <mass value="1.432"/>
      <inertia ixx="0.008667273" ixy="-0.000550519" ixz="-0.000437698" iyy="0.003966417" iyz="-0.003045718" izz="0.006263477"/>
    </inertial>
    <visual>
      <origin rpy="0 0 0" xyz="0 0 0"/>
      <geometry>
        <mesh filename="package://robot/urdf/elspider_mini/meshes/LB_HIP.STL"/>
      </geometry>
      <material name="">
        <color rgba="1 1 1 1"/>
      </material>
    </visual>
    <collision>
      <origin rpy="0 0 0" xyz="0 0 0"/>
      <geometry>
        <mesh filename="package://robot/urdf/elspider_mini/meshes/LB_HIP.STL"/>
      </geometry>
    </collision>
  </link>
  <joint name="LB_HAA" type="revolute">
    <origin rpy="3.1416 0 3.1416" xyz="-0.42311 0.2 0.003"/>
    <parent link="base_link"/>
    <child link="LB_HIP"/>
    <axis xyz="0 0 1"/>
    <dynamics damping="0" friction="0"/>
    <limit effort="33.5" lower="-0.94" upper="0.94" velocity="21"/>
  </joint>
  <link name="LB_THIGH">
    <inertial>
      <!-- y approximately euqal to 0 -->
      <origin rpy="0 0 0" xyz="0.130350535114915 0 -0.00536514725405646"/>
      <mass value="1.088"/>
      <inertia ixx="0.005757794" ixy="0" ixz="0.001017752" iyy="0.006716892" iyz="0" izz="0.002140865"/>
    </inertial>
    <visual>
      <origin rpy="0 0 0" xyz="0 0 0"/>
      <geometry>
        <mesh filename="package://robot/urdf/elspider_mini/meshes/LB_THIGH.STL"/>
      </geometry>
      <material name="">
        <color rgba="1 1 1 1"/>
      </material>
    </visual>
    <collision>
      <origin rpy="0 0 0" xyz="0 0 0"/>
      <geometry>
        <mesh filename="package://robot/urdf/elspider_mini/meshes/LB_THIGH.STL"/>
      </geometry>
    </collision>
  </link>
  <joint name="LB_HFE" type="revolute">
    <origin rpy="0 1.5708 0" xyz="0 0.15 0.086603"/>
    <axis xyz="0 0 1"/>
    <parent link="LB_HIP"/>
    <child link="LB_THIGH"/>
    <dynamics damping="0" friction="0"/>
    <limit effort="33.5" lower="-0.1" upper="3.5" velocity="21"/>
  </joint>
  <link name="LB_SHANK">
    <inertial>
      <origin rpy="0 0 0" xyz="-8.3661968509452e-05 -0.149655490940651 -0.00235938386243889"/>
      <mass value="0.632"/>
      <!-- no mirror in ixy, ixz? -->
      <inertia ixx="0.009725734" ixy="0.0" ixz="-0.000516644" iyy="0.011177627" iyz="6.204e-06" izz="0.001750349"/>
    </inertial>
    <visual>
      <origin rpy="0 0 0" xyz="0 0 0"/>
      <geometry>
        <mesh filename="package://robot/urdf/elspider_mini/meshes/LB_SHANK.STL"/>
      </geometry>
      <material name="">
        <color rgba="1 1 1 1"/>
      </material>
    </visual>
    <collision>
      <origin rpy="0 0 0" xyz="0 0 0"/>
      <geometry>
        <mesh filename="package://robot/urdf/elspider_mini/meshes/LB_SHANK.STL"/>
      </geometry>
    </collision>
  </link>
  <joint name="LB_KFE" type="revolute">
    <origin rpy="3.1416 0 1.5708" xyz="0.162 0 0"/>
    <parent link="LB_THIGH"/>
    <child link="LB_SHANK"/>
    <axis xyz="0 0 1"/>
    <dynamics damping="0" friction="0"/>
    <limit effort="33.5" lower="-0.436" upper="4.25" velocity="21"/>
  </joint>
  <link name="LB_FOOT">
    <inertial>
      <!-- xyz approximately euqal to 0 -->
      <origin rpy="0 0 0" xyz="0 0 0"/>
      <mass value="0.013"/>
      <inertia ixx="2.423e-06" ixy="0" ixz="0" iyy="3.073e-06" iyz="0" izz="2.423e-06"/>
    </inertial>
    <visual>
      <origin rpy="0 0 0" xyz="0 0 0"/>
      <geometry>
        <mesh filename="package://robot/urdf/elspider_mini/meshes/LB_FOOT.STL"/>
      </geometry>
      <material name="">
        <color rgba="1 1 1 1"/>
      </material>
    </visual>
    <collision>
      <origin rpy="0 0 0" xyz="0 0 0"/>
      <geometry>
        <mesh filename="package://robot/urdf/elspider_mini/meshes/LB_FOOT.STL"/>
      </geometry>
    </collision>
  </link>
  <joint dont_collapse="true" name="LB_FIX" type="fixed">
    <origin rpy="0 0 0" xyz="0 -0.35499 0"/>
    <parent link="LB_SHANK"/>
    <child link="LB_FOOT"/>
    <axis xyz="0 0 0"/>
  </joint>
  <transmission name="LB_HAA_tran">
    <type>transmission_interface/SimpleTransmission</type>
    <joint name="LB_HAA">
      <hardwareInterface>hardware_interface/EffortJointInterface</hardwareInterface>
    </joint>
    <actuator name="LB_HAA_motor">
      <hardwareInterface>hardware_interface/EffortJointInterface</hardwareInterface>
      <mechanicalReduction>1</mechanicalReduction>
    </actuator>
  </transmission>
  <transmission name="LB_HFE_tran">
    <type>transmission_interface/SimpleTransmission</type>
    <joint name="LB_HFE">
      <hardwareInterface>hardware_interface/EffortJointInterface</hardwareInterface>
    </joint>
    <actuator name="LB_HFE_motor">
      <hardwareInterface>hardware_interface/EffortJointInterface</hardwareInterface>
      <mechanicalReduction>1</mechanicalReduction>
    </actuator>
  </transmission>
  <transmission name="LB_KFE_tran">
    <type>transmission_interface/SimpleTransmission</type>
    <joint name="LB_KFE">
      <hardwareInterface>hardware_interface/EffortJointInterface</hardwareInterface>
    </joint>
    <actuator name="LB_KFE_motor">
      <hardwareInterface>hardware_interface/EffortJointInterface</hardwareInterface>
      <mechanicalReduction>1</mechanicalReduction>
    </actuator>
  </transmission>
  <!-- Foot contacts. -->
  <gazebo reference="LB_SHANK">
    <sensor name="LB_foot_contact" type="contact">
      <alwaysOn>true</alwaysOn>
      <update_rate>100</update_rate>
      <plugin filename="libunitreeFootContactPlugin.so" name="contactPlugin"/>
      <contact>
        <collision>LB_foot_collision_collision</collision>
      </contact>
    </sensor>
  </gazebo>
  <!-- Visualization of Foot contacts. -->
  <gazebo reference="LB_FOOT">
    <visual>
      <plugin filename="libunitreeDrawForcePlugin.so" name="drawForcePlugin">
        <topicName>LB_foot_contact</topicName>
      </plugin>
    </visual>
  </gazebo>
</robot>
